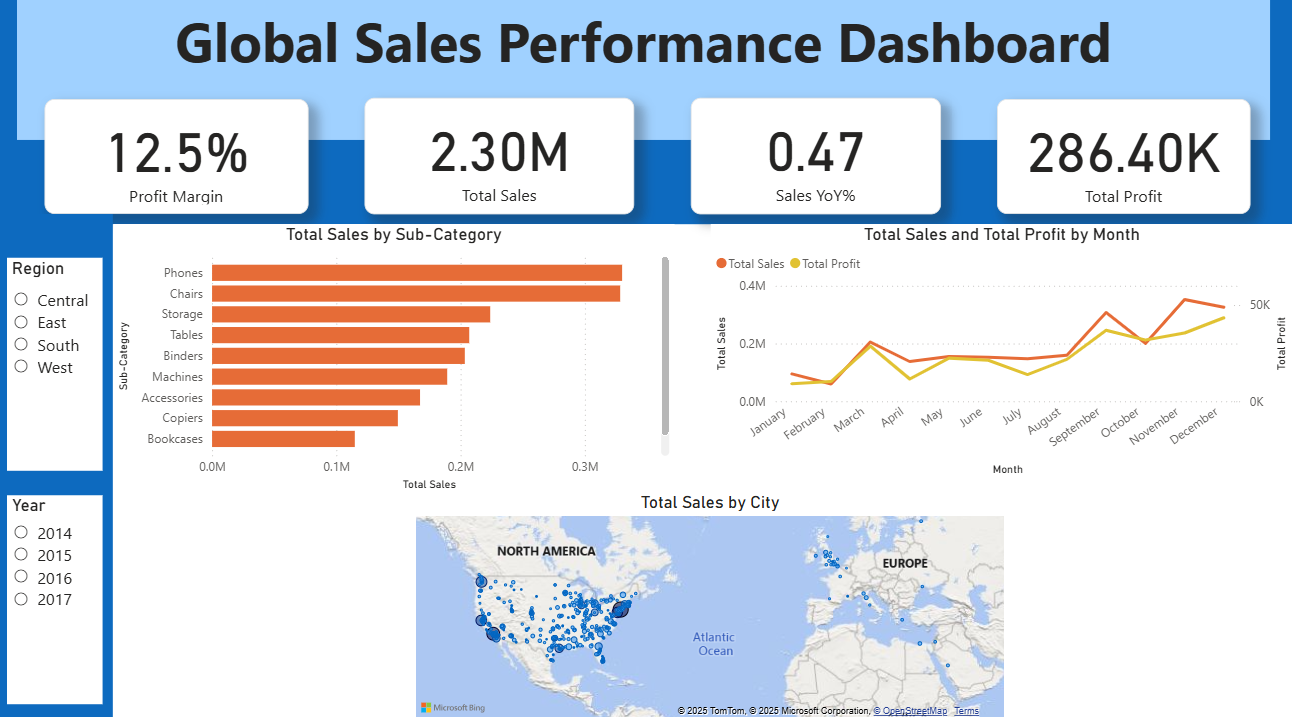

What the dashboard file says about the page in this screenshot:
{"tool":"powerbi","page":{"name":"Page 1","canvas":[1280,720],"ordinal":0},"visuals":[{"type":"textbox","box":[0,0,1280.2,222.2],"z":0},{"type":"textbox","box":[19.9,0,1237.7,139.3],"z":1000},{"type":"card","fields":{"Values":["Sample - Superstore.Total Sales"]},"box":[363,97.5,266.7,114.8],"z":2000},{"type":"card","fields":{"Values":["Sample - Superstore.Total Profit"]},"box":[987.7,98.8,250.6,113.6],"z":3000},{"type":"card","fields":{"Values":["Sample - Superstore.Profit Margin"]},"box":[46.9,98.8,260.5,113.6],"z":4000},{"type":"textbox","box":[0,212.7,114.4,507.5],"z":5000},{"type":"card","fields":{"Values":["Sample - Superstore.Sales YoY%"]},"box":[685.2,97.5,246.9,114.8],"z":6000},{"type":"listSlicer","fields":{"Values":["DateTable.Date.Variation.Date Hierarchy.Year"]},"box":[10,490.1,94.5,206.5],"z":7000},{"type":"listSlicer","fields":{"Values":["Sample - Superstore.Region"]},"box":[10,255,94.5,210.2],"z":8000},{"type":"lineChart","fields":{"Category":["DateTable.Date.Variation.Date Hierarchy.Month"],"Y":["Sample - Superstore.Total Sales"],"Y2":["Sample - Superstore.Total Profit"]},"box":[704.9,222.2,575.3,253.1],"z":9000},{"type":"map","fields":{"Category":["Sample - Superstore.City"],"Size":["Sample - Superstore.Total Sales"]},"box":[408.6,486.4,591.4,233.3],"z":10000},{"type":"clusteredBarChart","fields":{"Y":["Sample - Superstore.Total Sales"],"Category":["Sample - Superstore.Sub-Category"]},"box":[114.8,222.2,554.3,267.9],"z":11000}]}

Visuals, with their boxes in screenshot pixels (x1, y1, x2, y2), scaled from the page's 1280x720 canvas onto the 1292x717 screenshot:
textbox: locate(0, 0, 1291, 221)
textbox: locate(20, 0, 1269, 139)
card - Sample - Superstore.Total Sales: locate(366, 97, 636, 211)
card - Sample - Superstore.Total Profit: locate(997, 98, 1250, 212)
card - Sample - Superstore.Profit Margin: locate(47, 98, 310, 212)
textbox: locate(0, 212, 115, 716)
card - Sample - Superstore.Sales YoY%: locate(692, 97, 941, 211)
listSlicer - DateTable.Date.Variation.Date Hierarchy.Year: locate(10, 488, 105, 694)
listSlicer - Sample - Superstore.Region: locate(10, 254, 105, 463)
lineChart - DateTable.Date.Variation.Date Hierarchy.Month x Sample - Superstore.Total Sales: locate(712, 221, 1291, 473)
map - Sample - Superstore.City x Sample - Superstore.Total Sales: locate(412, 484, 1009, 716)
clusteredBarChart - Sample - Superstore.Total Sales x Sample - Superstore.Sub-Category: locate(116, 221, 675, 488)
